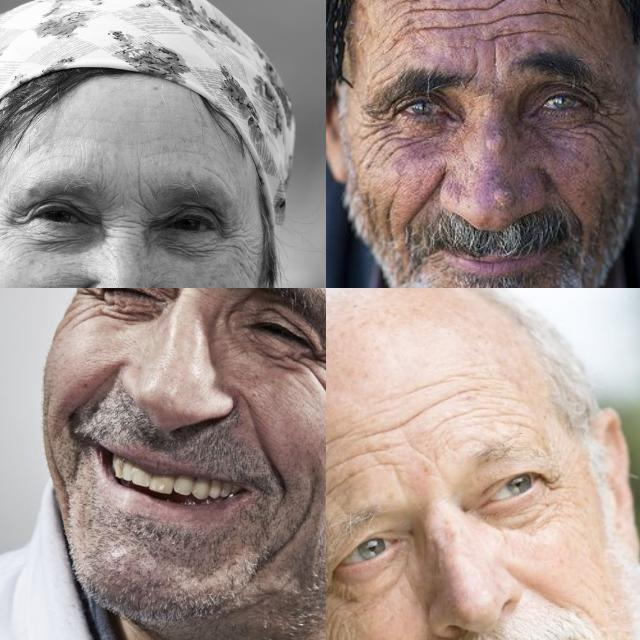crows_feet: (593, 95, 627, 153), (358, 108, 400, 144), (547, 466, 579, 512), (326, 580, 347, 635), (220, 222, 252, 256), (0, 210, 32, 238), (73, 288, 105, 313), (318, 343, 326, 405)
forehead: (405, 378, 511, 430), (326, 437, 403, 489), (508, 4, 574, 34), (443, 0, 492, 34), (392, 0, 427, 38)
frown_line: (108, 206, 142, 246), (482, 46, 506, 84), (132, 166, 152, 204)
gummy_smile: (242, 405, 278, 461), (411, 170, 444, 222), (566, 196, 588, 250)
masseter: (267, 513, 303, 567)
